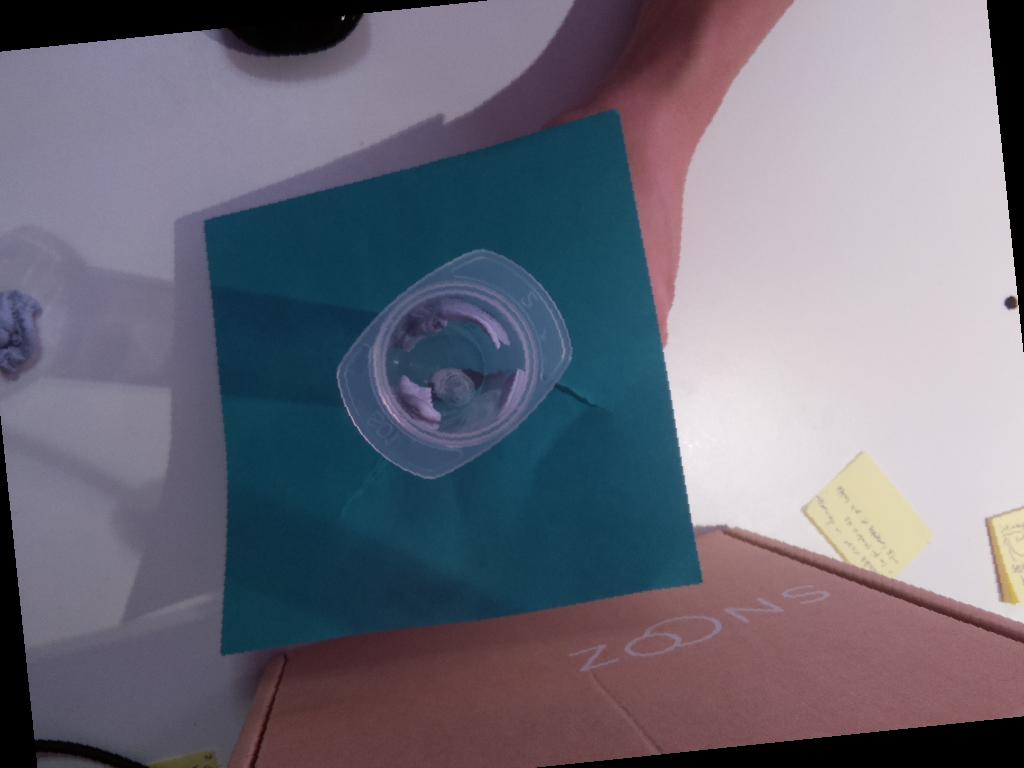dirty: (334, 246, 574, 484)
